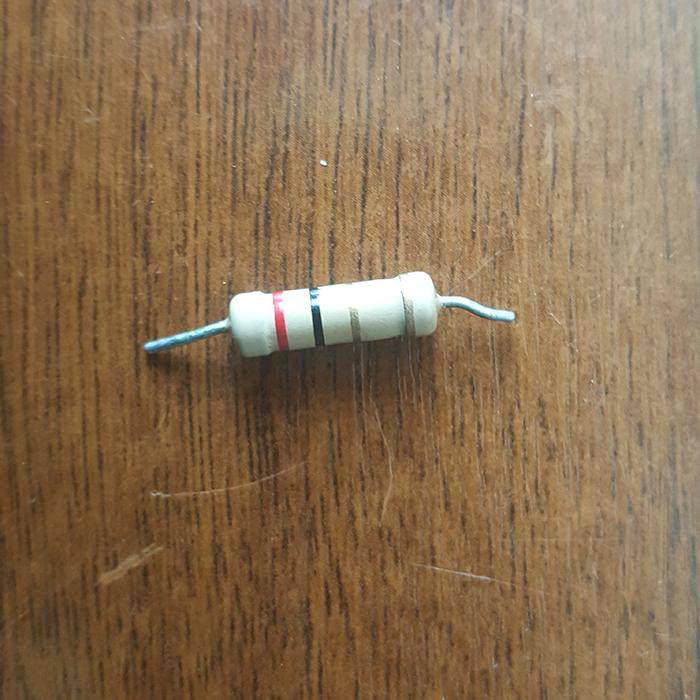resistor: (225, 270, 444, 356)
